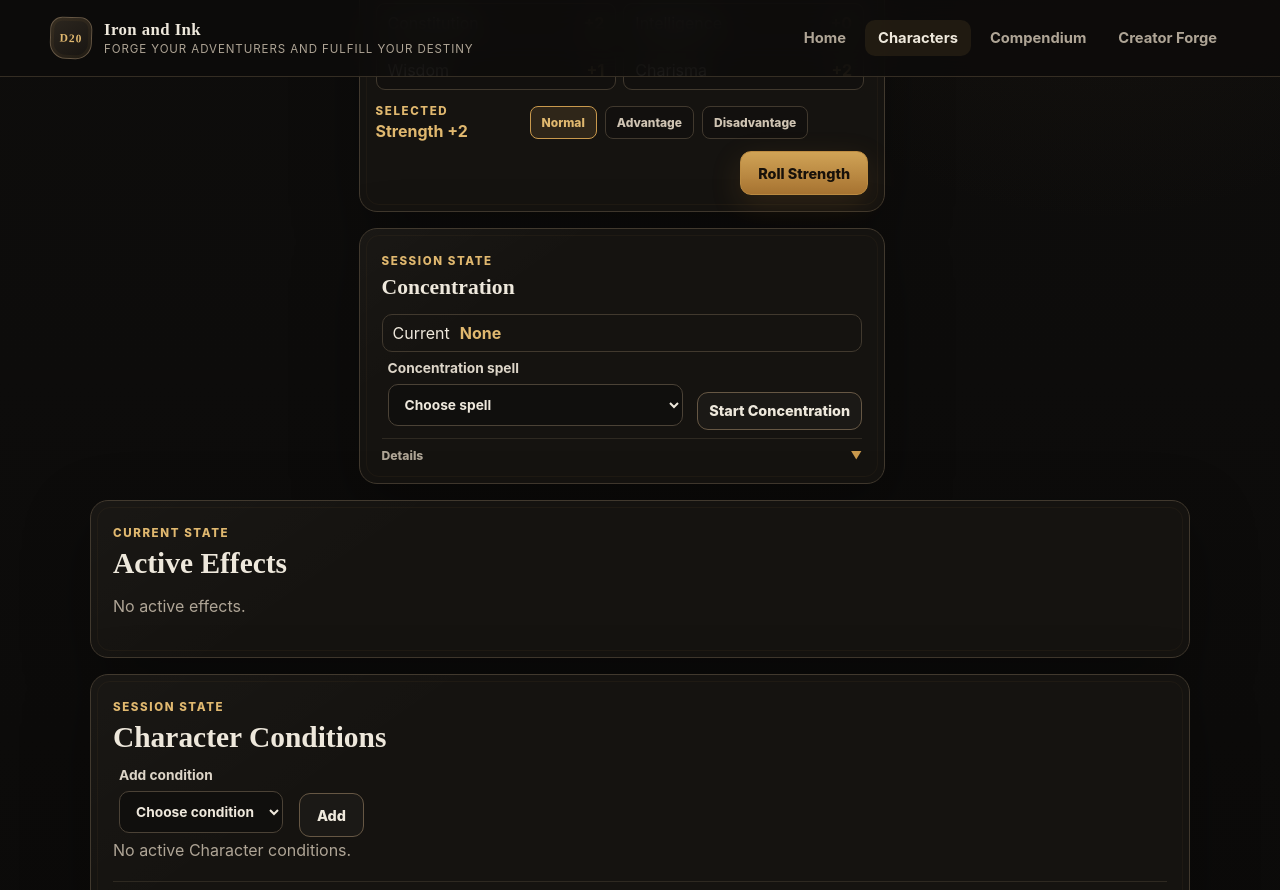
Test: PLAY lower-content density and disclosure › J-K keeps Concentration current state and controls immediate while reference guidance defaults collapsed
(page scrolled)
Expected: the element "Concentration" is shown, [358, 228, 885, 484]
Expected: the text "Current" is shown, [392, 323, 450, 343]
Click the heading "Details" below "Concentration spell". click: (402, 455)
box: [382, 448, 423, 463]
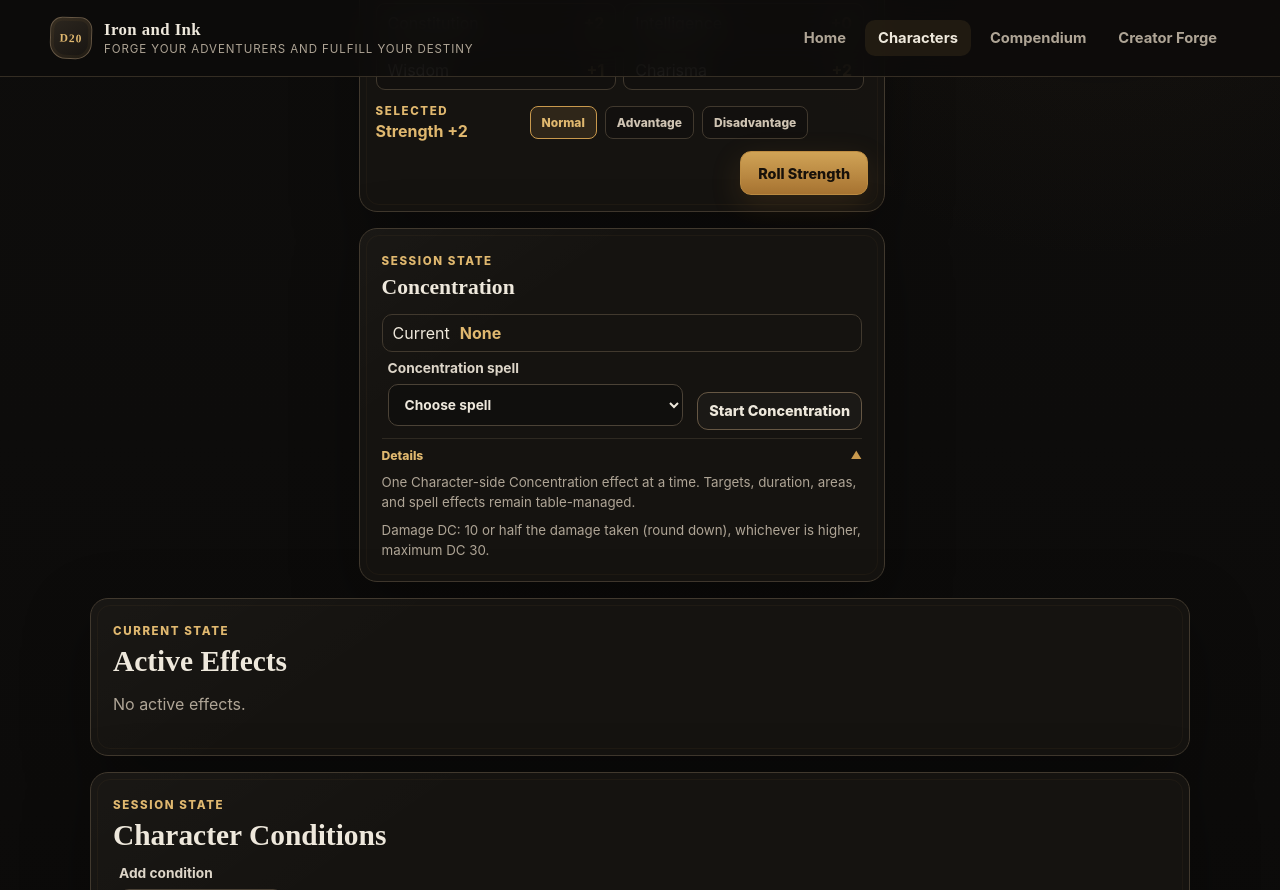
Result: the text "One Character-side Concentration effect at a time. Targets, duration, areas, and spell effects remain table-managed." is shown at [382, 474, 856, 510]
Result: the text "Damage DC: 10 or half the damage taken (round down), whichever is higher, maximum DC 30." is shown at [382, 522, 861, 558]
